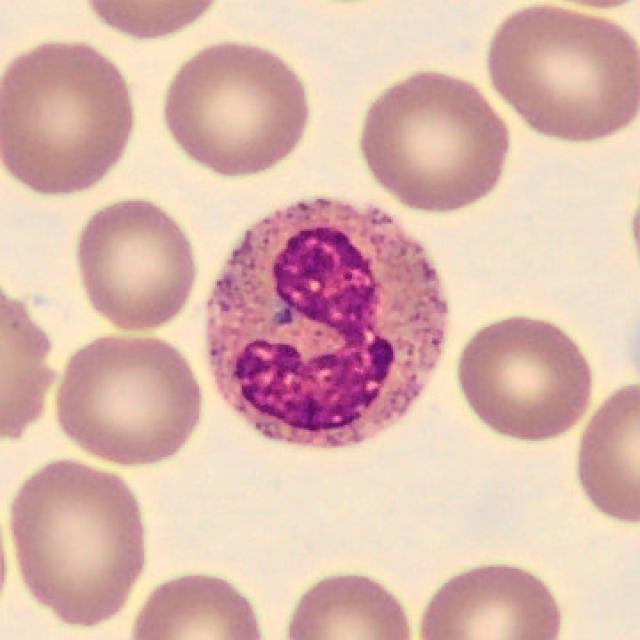Bastonete: (208, 199, 446, 444)
